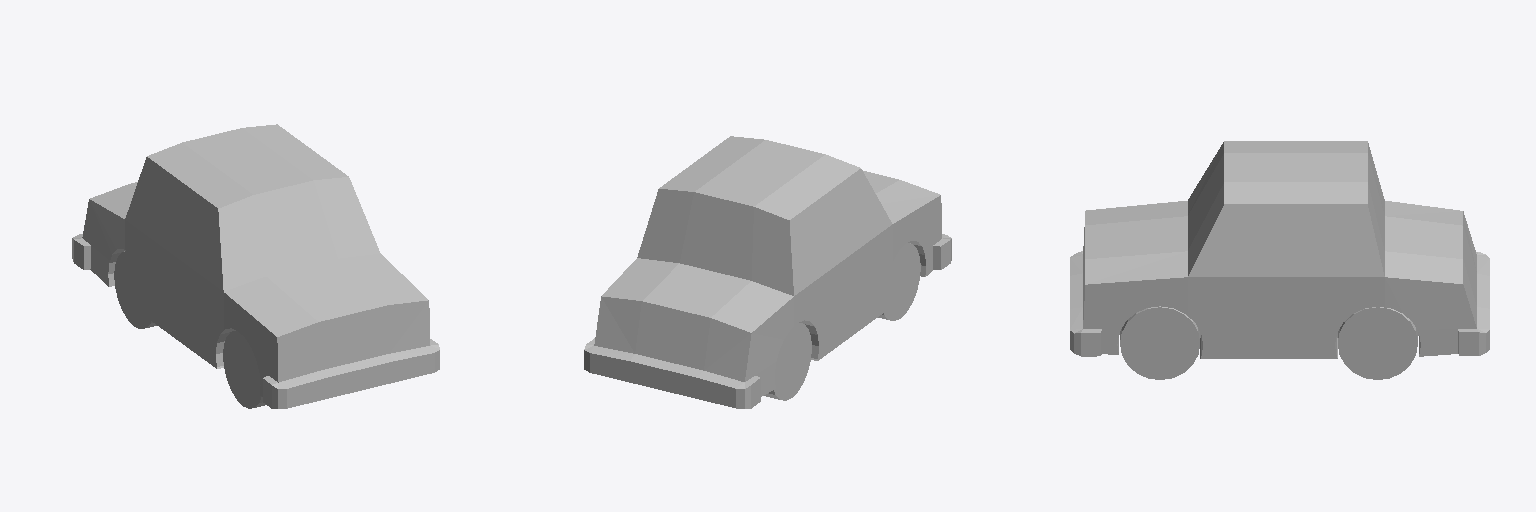
Rendered from car.obj.
3 renders of one model, left to right at view 1: azimuth 30°, elevation 25°; view 2: azimuth 150°, elevation 25°; view 3: azimuth 270°, elevation 25°, orthographic.
Parts seen in each view (by area): view 1: Car.Wheel.BL_Wheel.mat_0; view 2: Car.Wheel.BL_Wheel.mat_0; view 3: Car.Wheel.BL_Wheel.mat_0.
Part boxes in pixels (bbox=[...]): Car.Wheel.BL_Wheel.mat_0: bbox=[72, 124, 439, 408]; Car.Wheel.BL_Wheel.mat_0: bbox=[584, 136, 951, 408]; Car.Wheel.BL_Wheel.mat_0: bbox=[1070, 141, 1489, 379].
Size of the model in its own units: 11.66 by 11.84 by 25.43.